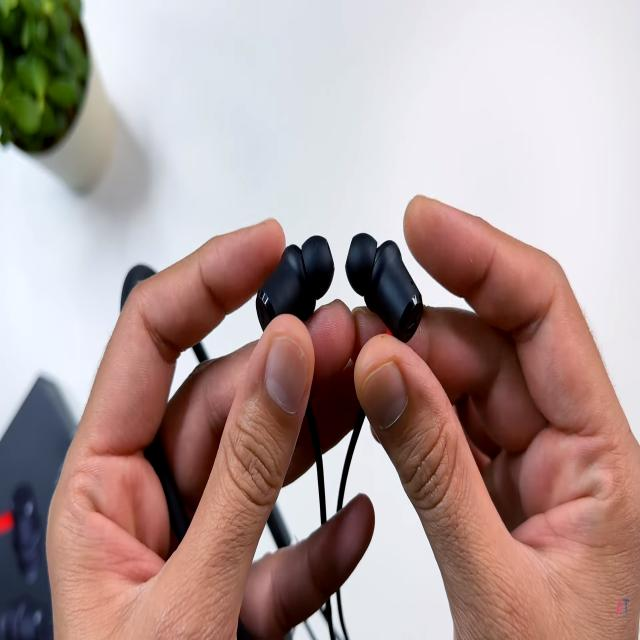Neckband: (120, 230, 423, 640)
